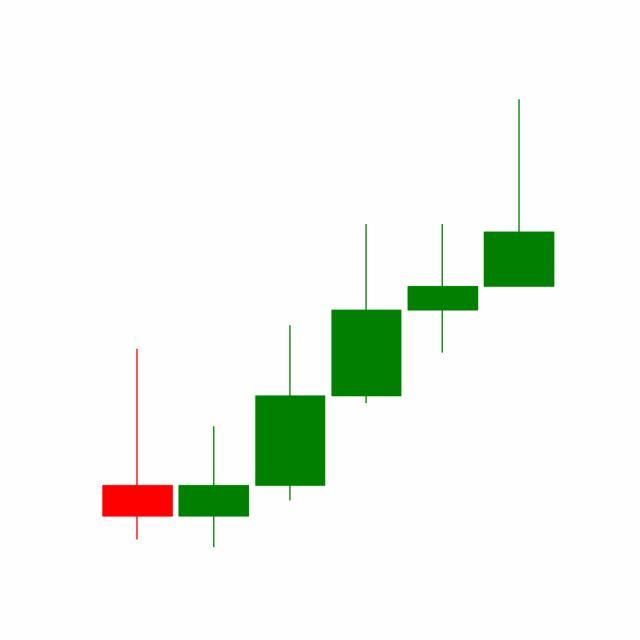Spinning Top: (404, 222, 482, 355)
